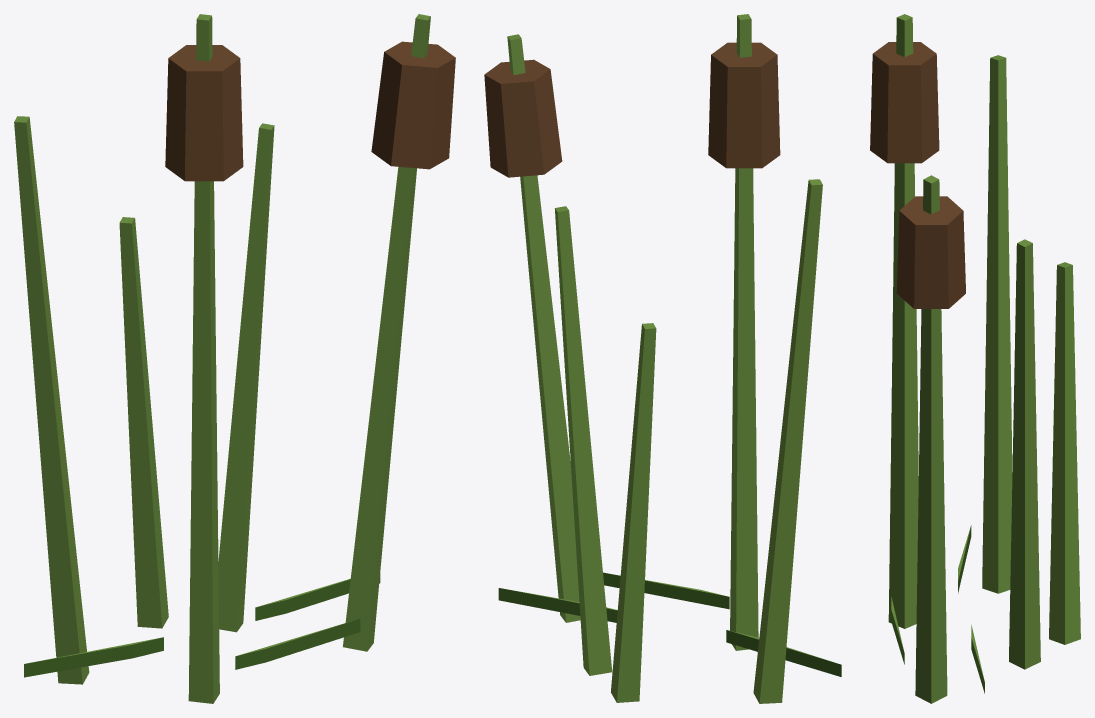
The model's file is pond_reeds.fbx.
The picture shows the model from 3 angles, left to right: view 1: azimuth 30°, elevation 25°; view 2: azimuth 150°, elevation 25°; view 3: azimuth 270°, elevation 25°; orthographic projection. The views are drawn at different scales.
Parts seen in each view (by area): view 1: pond_reeds; view 2: pond_reeds; view 3: pond_reeds.
Boxes of the visible parts, <box> form: pond_reeds: <box>14,14,455,703</box>; pond_reeds: <box>484,14,841,703</box>; pond_reeds: <box>870,14,1080,703</box>.
Size of the model in its own units: 0.3082 by 0.5013 by 0.158.
